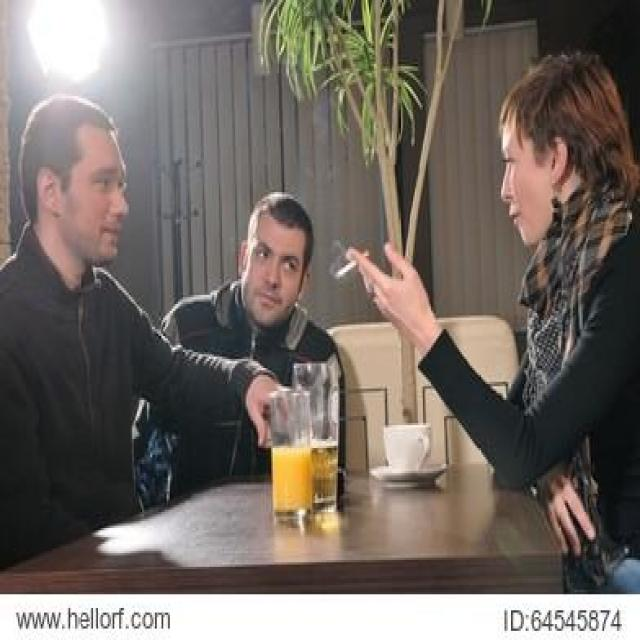Сигарета: (335, 250, 370, 280)
Тело: (344, 52, 640, 596), (1, 93, 223, 593), (156, 192, 347, 501)
